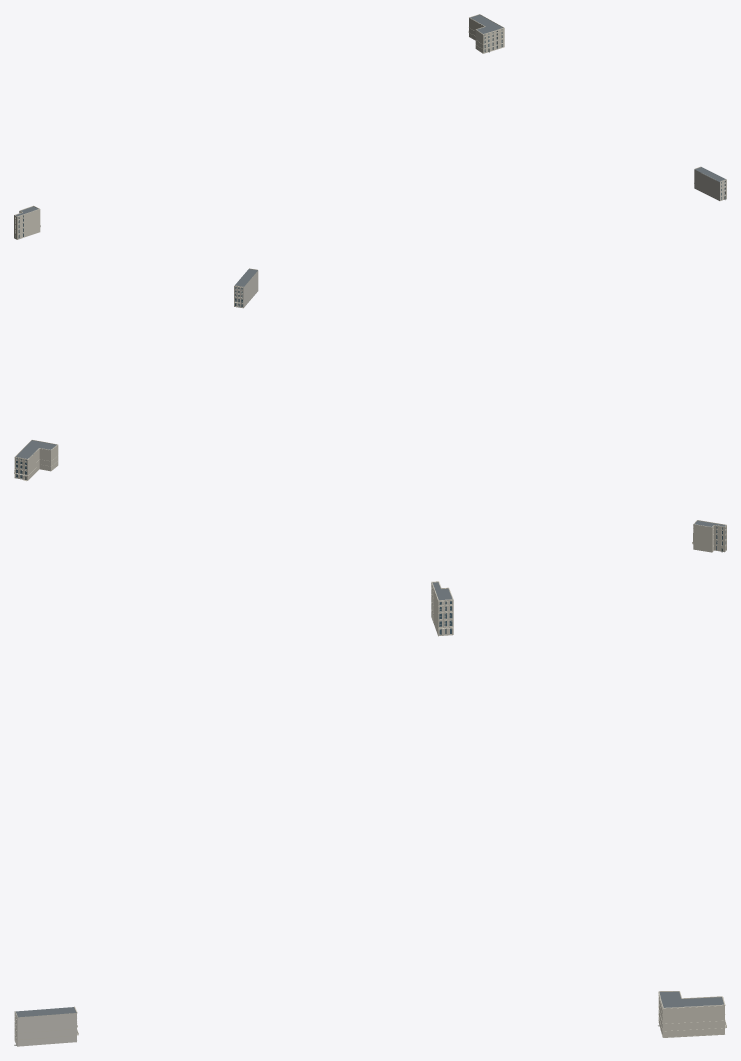
Rendered from replacement.glb.
3 views of the same model, one above another, from view 1: azimuth 30°, elevation 25°; view 2: azimuth 150°, elevation 25°; view 3: azimuth 270°, elevation 25° (orthographic). The views are drawn at different scales.
Visible parts, largest first — view 1: 25 Princes Gate | pierced muted masonry facades, 6 Queens Gate | pierced masonry, 48 Princes Gardens | pierced wall piers; view 2: 6 Queens Gate | pierced masonry, 25 Princes Gate | pierced muted masonry facades; view 3: 25 Princes Gate | pierced muted masonry facades, 48 Princes Gardens | pierced wall piers.
Part boxes in pixels (bbox=[...]): 25 Princes Gate | pierced muted masonry facades: bbox=[469, 18, 504, 53]; 6 Queens Gate | pierced masonry: bbox=[14, 206, 40, 239]; 48 Princes Gardens | pierced wall piers: bbox=[694, 169, 726, 200]; 6 Queens Gate | pierced masonry: bbox=[693, 520, 726, 552]; 25 Princes Gate | pierced muted masonry facades: bbox=[14, 445, 58, 479]; 25 Princes Gate | pierced muted masonry facades: bbox=[658, 995, 724, 1037]; 48 Princes Gardens | pierced wall piers: bbox=[14, 1012, 76, 1046].
Bounding box in the file's own units: 514 × 19.9 × 360.
